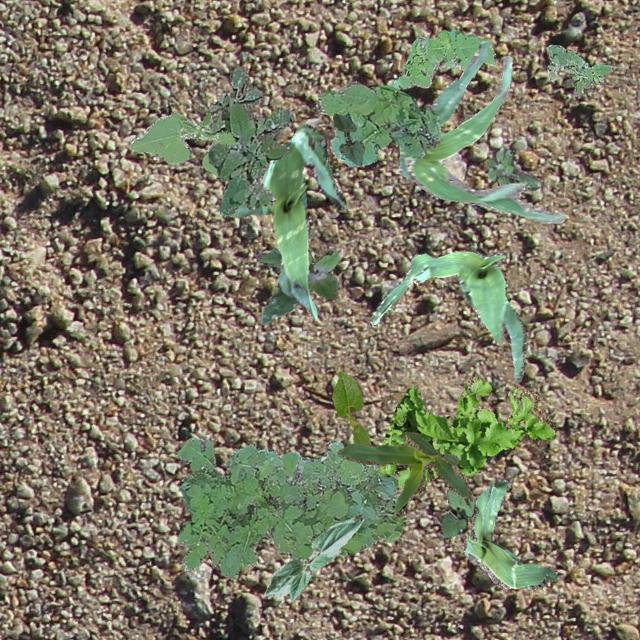crop: (398, 40, 564, 222), (222, 123, 346, 320), (370, 250, 526, 380), (336, 430, 472, 518), (462, 478, 556, 588), (264, 514, 364, 600), (128, 111, 235, 176), (331, 371, 369, 444), (438, 488, 474, 538), (332, 112, 362, 164)
weed: (176, 436, 407, 578), (378, 376, 554, 492), (208, 64, 292, 216), (314, 80, 440, 166), (254, 248, 338, 324), (391, 28, 494, 88), (546, 44, 610, 94), (486, 146, 540, 188), (278, 450, 302, 480)
